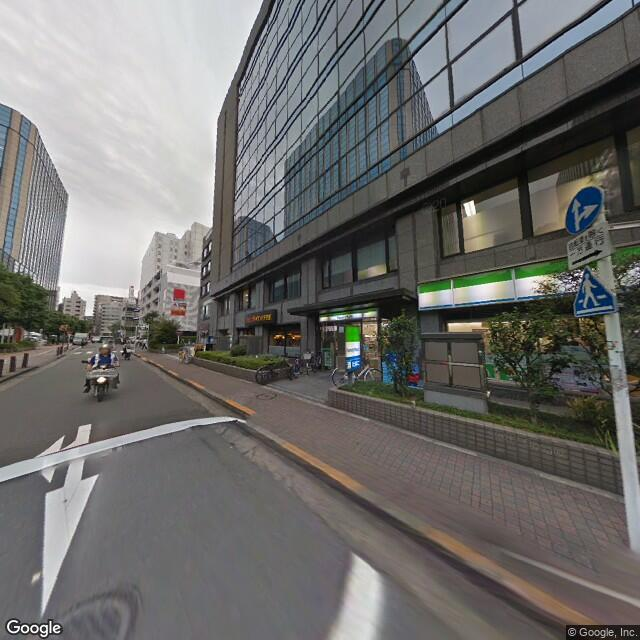family_mart: (416, 240, 639, 315), (341, 319, 362, 371)
